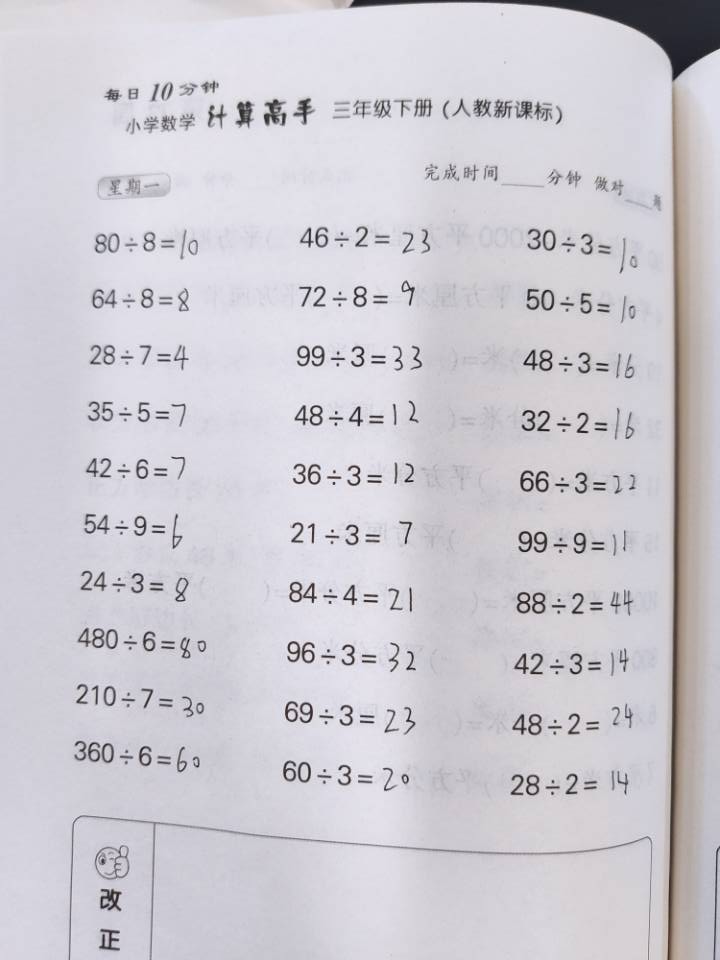equation: (295, 380, 332, 587), (250, 372, 287, 579), (206, 373, 243, 580), (473, 388, 510, 595), (428, 396, 465, 603), (518, 397, 555, 604), (506, 669, 543, 876), (459, 661, 496, 868), (211, 92, 248, 299), (481, 88, 518, 295), (390, 81, 427, 288), (163, 655, 200, 861), (333, 659, 370, 865), (294, 663, 331, 869), (249, 663, 286, 869), (419, 663, 456, 869), (344, 83, 381, 289), (302, 79, 339, 285), (167, 87, 204, 293), (522, 87, 559, 293), (562, 401, 598, 608), (380, 388, 416, 595), (340, 376, 376, 583), (548, 668, 584, 875), (256, 81, 292, 288), (206, 663, 242, 869), (158, 387, 194, 593), (376, 675, 412, 881), (434, 83, 470, 289), (572, 87, 608, 293)
